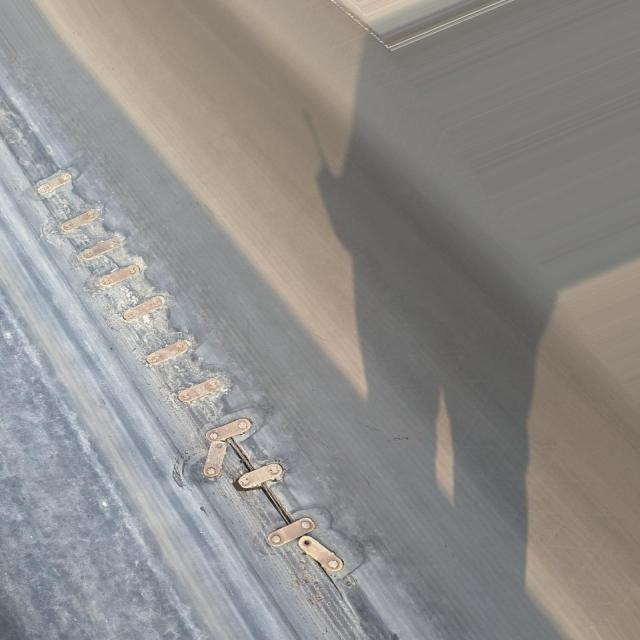patch work: (8, 132, 387, 604)
